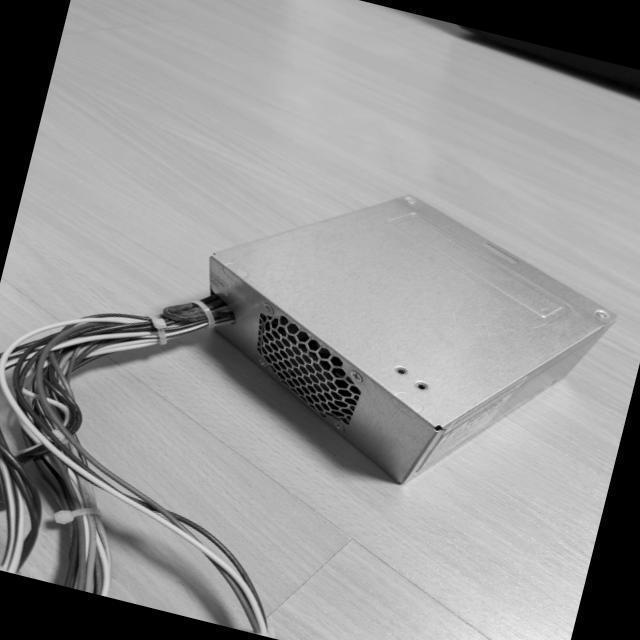PSU: (167, 150, 635, 526)
